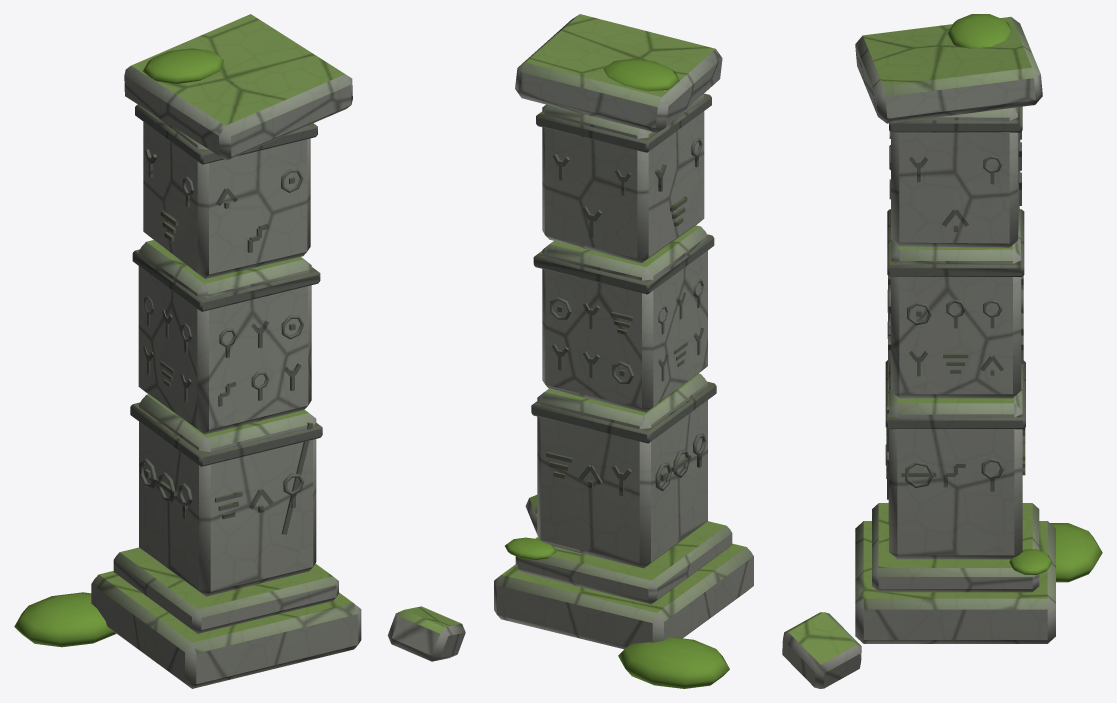
The model's file is ancient_glyph_pillar.glb.
3 renders of one model, left to right at view 1: azimuth 30°, elevation 25°; view 2: azimuth 150°, elevation 25°; view 3: azimuth 270°, elevation 25°, orthographic. The views are drawn at different scales.
Parts seen in each view (by area): view 1: ancient_glyph_pillar; view 2: ancient_glyph_pillar; view 3: ancient_glyph_pillar.
Part boxes in pixels (x1=…): ancient_glyph_pillar: x1=14, y1=14, x2=465, y2=688; ancient_glyph_pillar: x1=494, y1=14, x2=753, y2=688; ancient_glyph_pillar: x1=782, y1=14, x2=1102, y2=688.
Bounding box in the file's own units: 2.19 × 3.84 × 1.92.
Materials: 3 (3 with a texture image).
